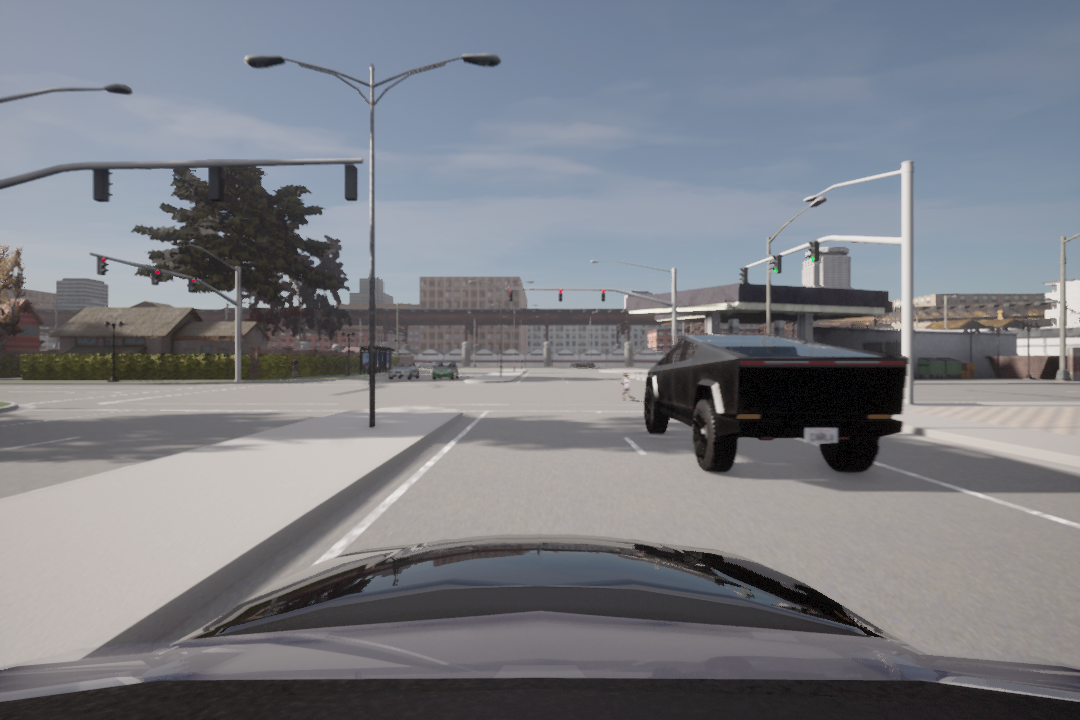TrafficLight: (807, 238, 823, 264), (771, 253, 784, 277), (738, 262, 747, 290), (507, 286, 517, 305), (599, 287, 607, 304), (556, 287, 565, 301)
